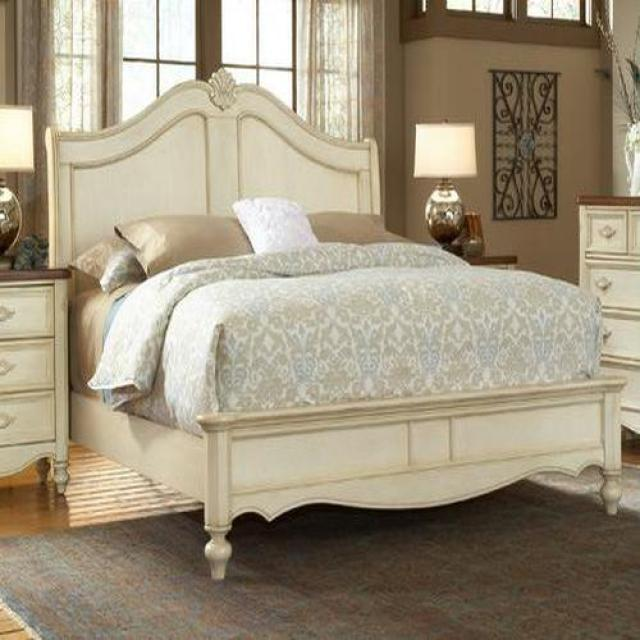bed: (56, 72, 626, 581)
